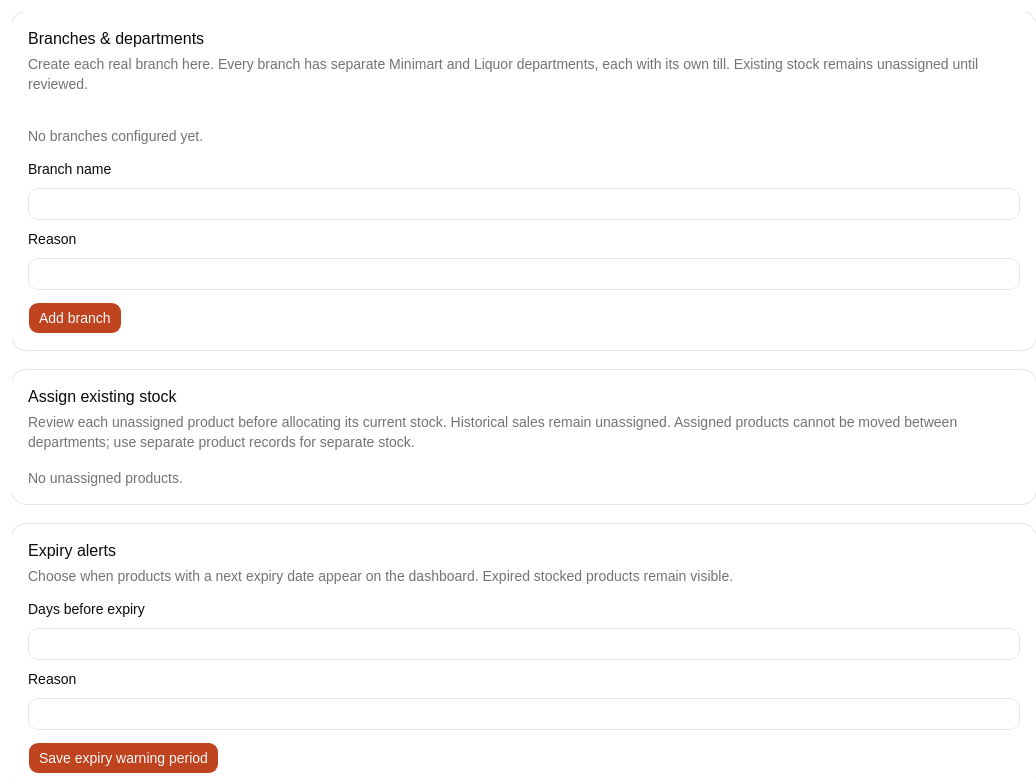
Test case: starts with no invented branch or expiry warning and saves the manager's branch name
Expected: the text "No branches configured yet." is shown, [28,128,203,144]
Expected: the number field labelled "Days before expiry" is empty, [28,628,1020,660]
Type "Westlands" into the field labelled "Branch name".
click(524, 204); type("Westlands")  # box [28,188,1020,220]
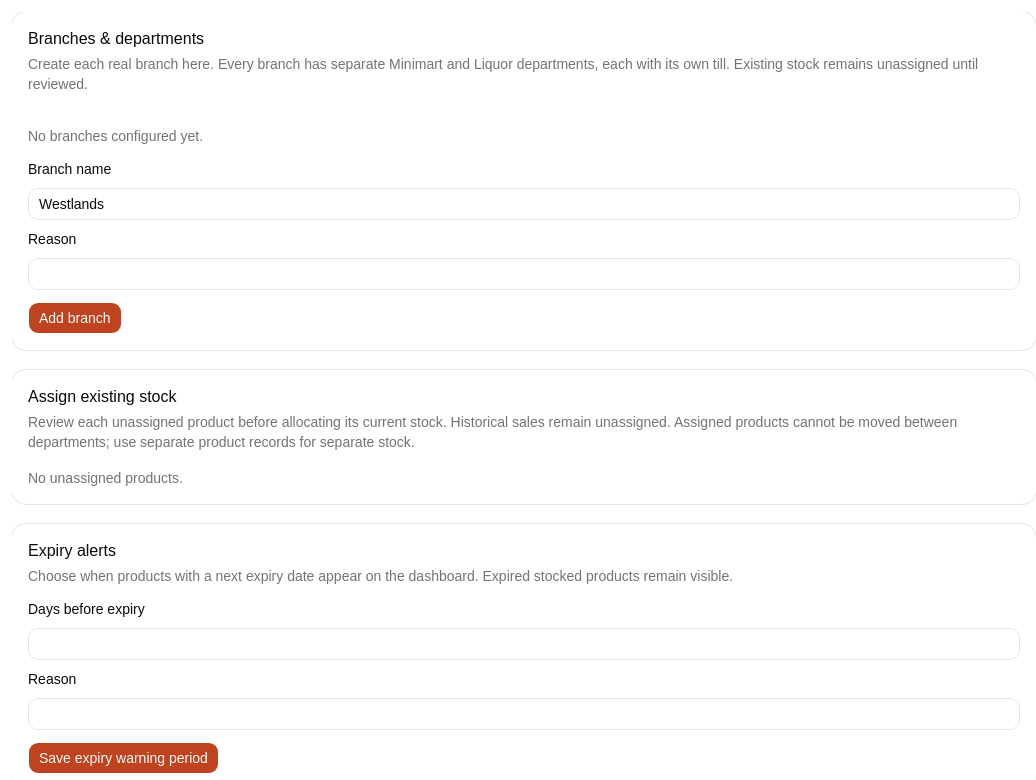
Type "New physical branch" into the field with id "branch-reason".
click(524, 274); type("New physical branch")  # box [28,258,1020,290]
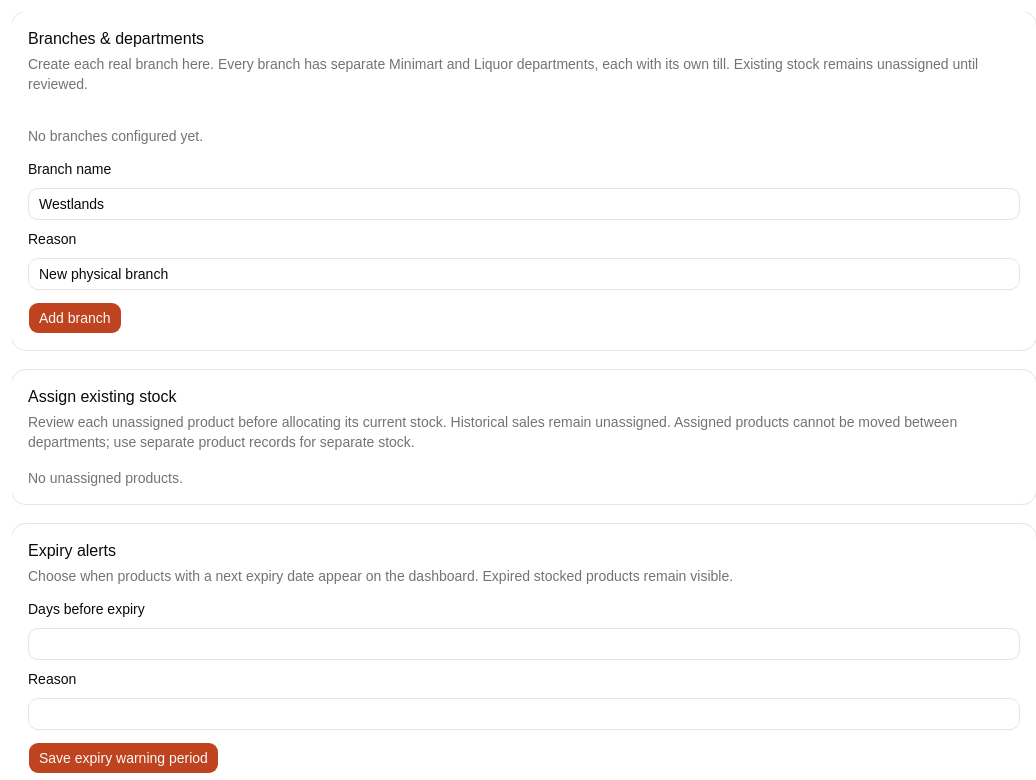
Click the button "Add branch".
click(75, 318)  # box [28,302,122,334]
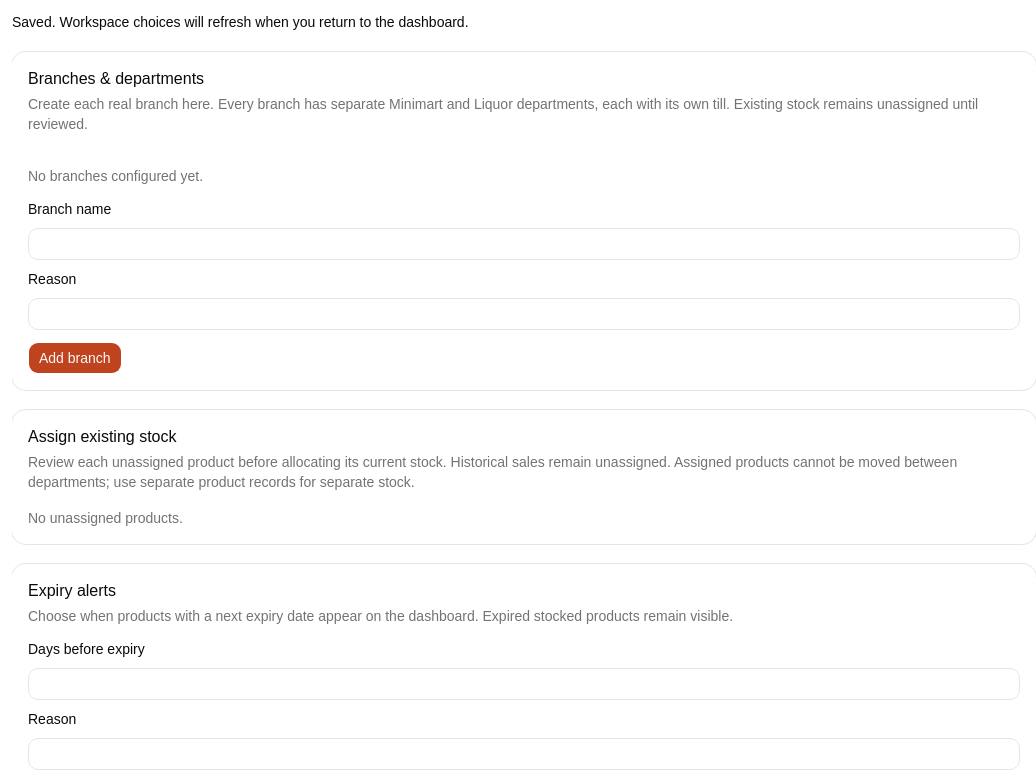
Expected: the message "Saved. Workspace choices will refresh when you return to the dashboard." is shown, [12,14,468,30]
